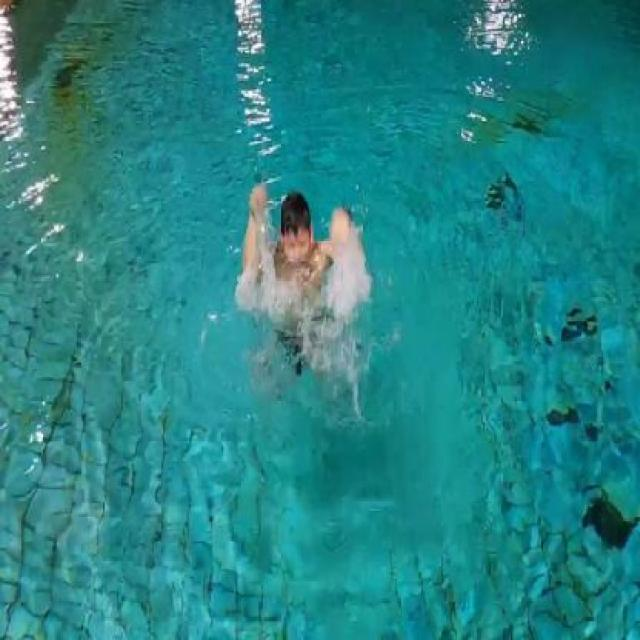drowning: (234, 174, 374, 398)
